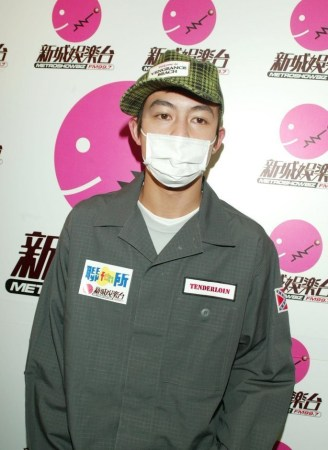face_mask: (140, 90, 211, 187)
